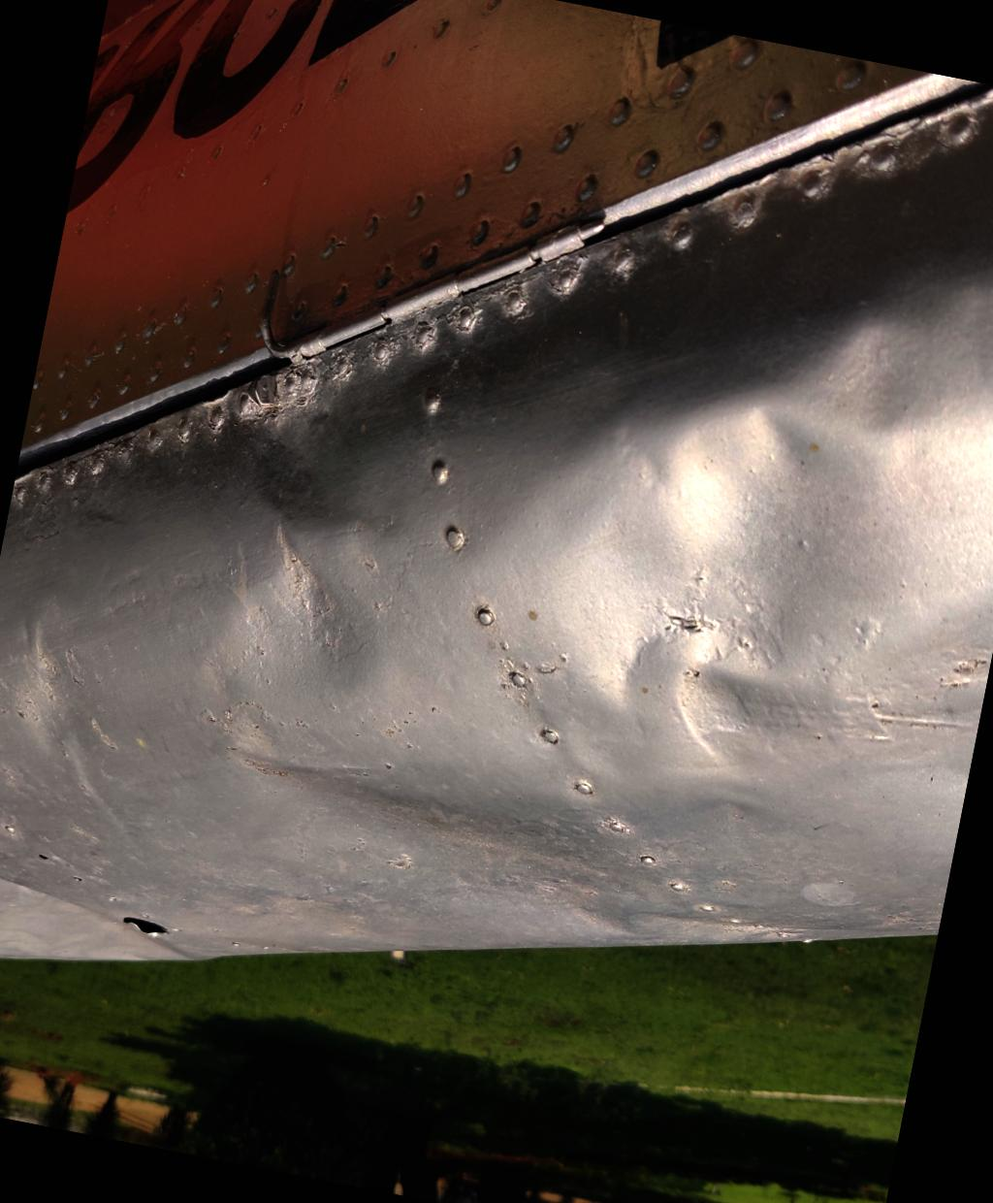dent: (504, 312, 945, 822), (213, 471, 425, 735), (791, 248, 993, 479)
